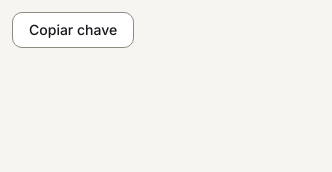
CopyPixKey › copia o valor e confirma para o leitor de tela
Click the button "Copiar chave" at (73,30), box [12, 12, 134, 48]
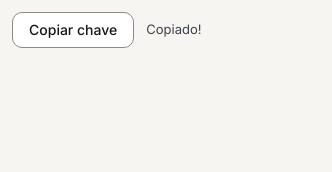
expect the message reads "Copiado!": met, box [146, 21, 202, 37]
